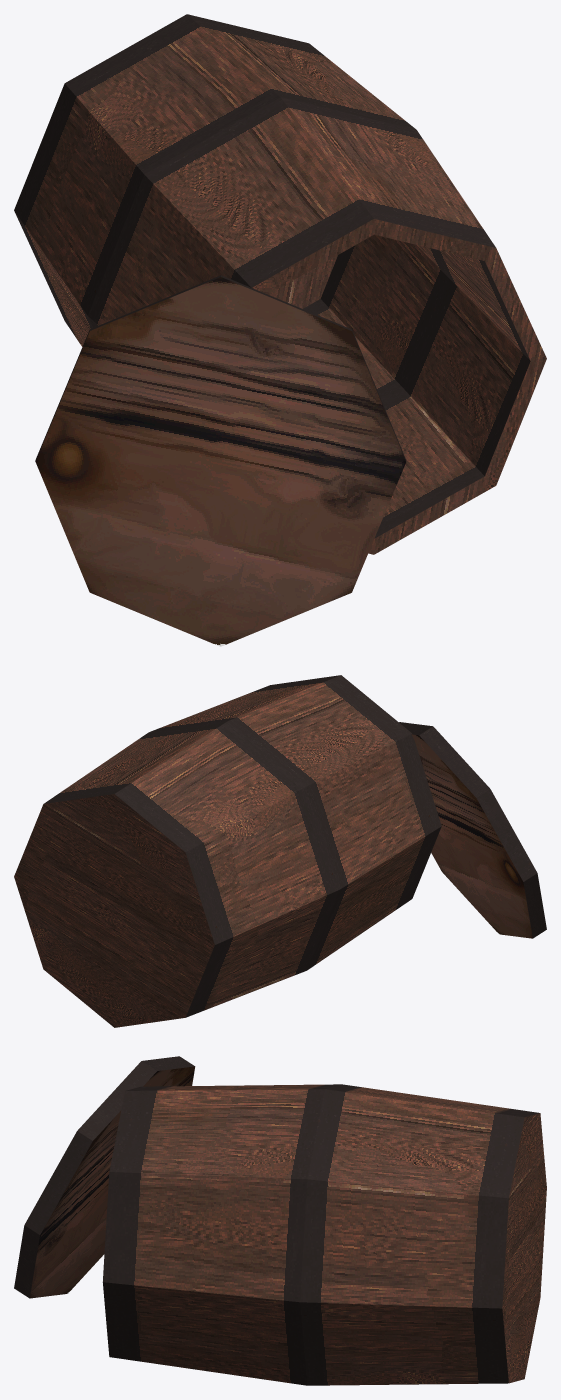
Rendered from barrilTumbado2.glb.
3 views of the same model, one above another, from view 1: azimuth 30°, elevation 25°; view 2: azimuth 150°, elevation 25°; view 3: azimuth 270°, elevation 25° (orthographic). The views are drawn at different scales.
Parts seen in each view (by area): view 1: Barrel_1_open, Barrel_lid; view 2: Barrel_1_open, Barrel_lid; view 3: Barrel_1_open, Barrel_lid.
Boxes of the visible parts, x1=… form: Barrel_1_open: x1=14, y1=14, x2=546, y2=554; Barrel_lid: x1=35, y1=275, x2=406, y2=646; Barrel_1_open: x1=14, y1=675, x2=441, y2=1027; Barrel_lid: x1=399, y1=722, x2=546, y2=938; Barrel_1_open: x1=102, y1=1084, x2=546, y2=1385; Barrel_lid: x1=14, y1=1056, x2=195, y2=1298.
Bounding box in the file's own units: 0.9262 × 0.6158 × 1.02.
1 material, 1 textured.
